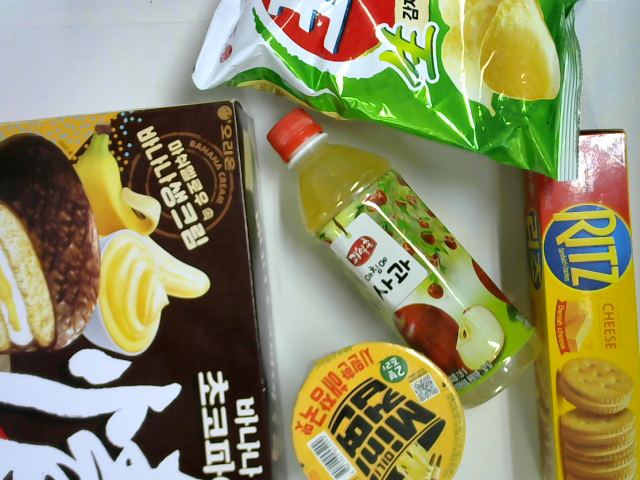Choco_Pie_Banana: (1, 95, 292, 480)
Hejangmini: (291, 342, 468, 480)
Morning_Apple_500ml: (267, 107, 543, 411)
Pocachip_Onion: (190, 1, 588, 186)
Ritz_Sand_Cracker: (520, 126, 640, 480)
